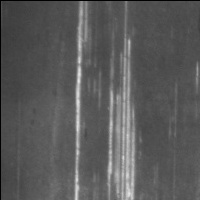scratches: (103, 34, 140, 200), (71, 2, 92, 200)
